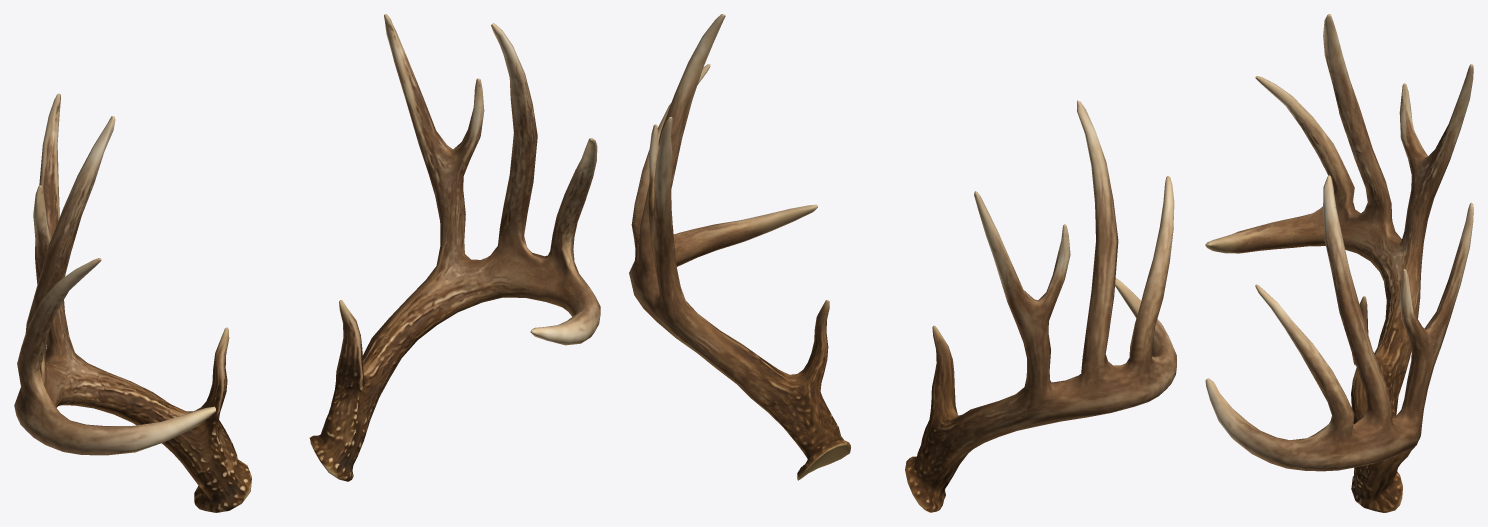
File: antlers.glb
3 views of the same model, side by side, from view 1: azimuth 30°, elevation 25°; view 2: azimuth 150°, elevation 25°; view 3: azimuth 270°, elevation 25° (orthographic). The views are drawn at different scales.
Parts seen in each view (by area): view 1: geometry_0; view 2: geometry_0; view 3: geometry_0.
Boxes of the visible parts, bbox=[...] form: geometry_0: bbox=[14, 14, 600, 512]; geometry_0: bbox=[629, 14, 1176, 512]; geometry_0: bbox=[1205, 14, 1473, 512].
Bounding box in the file's own units: 0.9497 × 0.7236 × 0.4551.
1 material, 1 textured.
